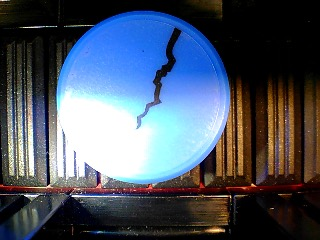CRACK: (56, 10, 231, 184)
